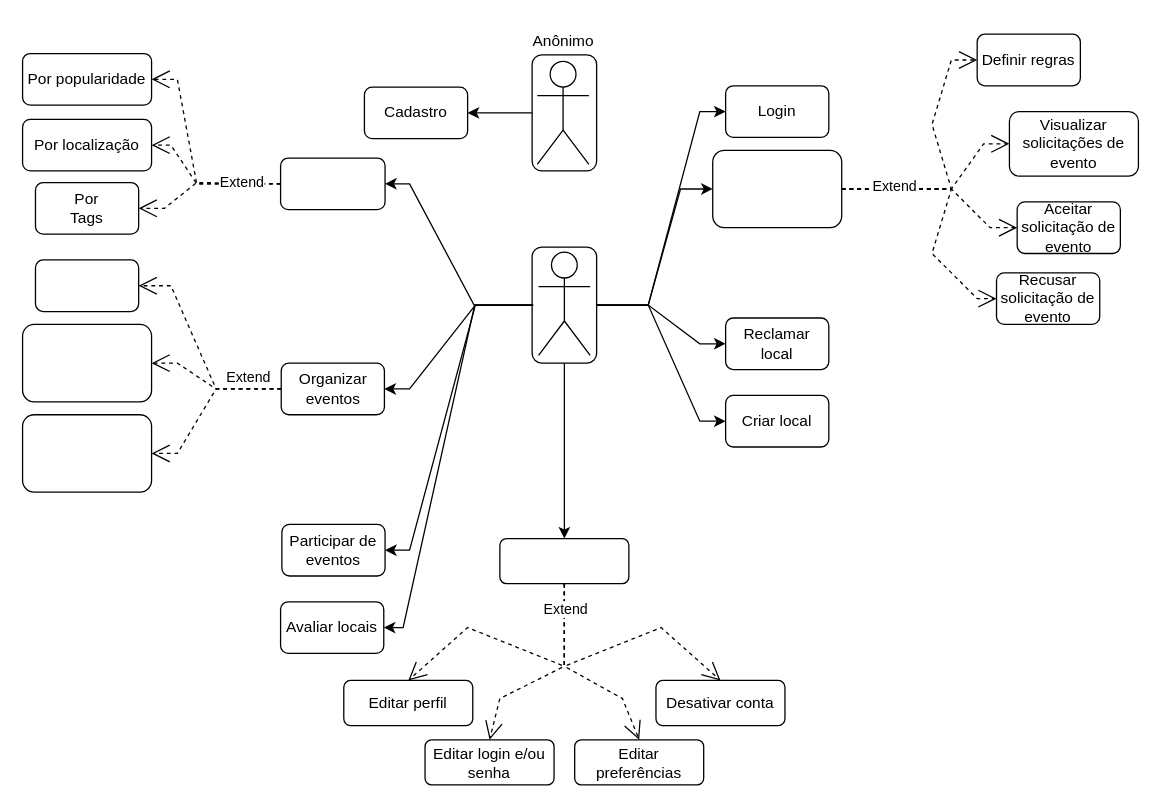
The diagram is 1161 pixels wide and 808 high, and some of its shapes have lost their labels. The shapes that lost their labels are listed below. From the top down, each one's centre as x and y in pixels, then its label:
(332,183): Encontrar eventos
(776,188): Gerenciar hospedagem de eventos
(86,285): Criar evento
(563,303): Usuário
(86,362): Enviar solicitação de evento
(86,452): Ver os locais mais bem avaliados
(564,560): Gerenciar conta
